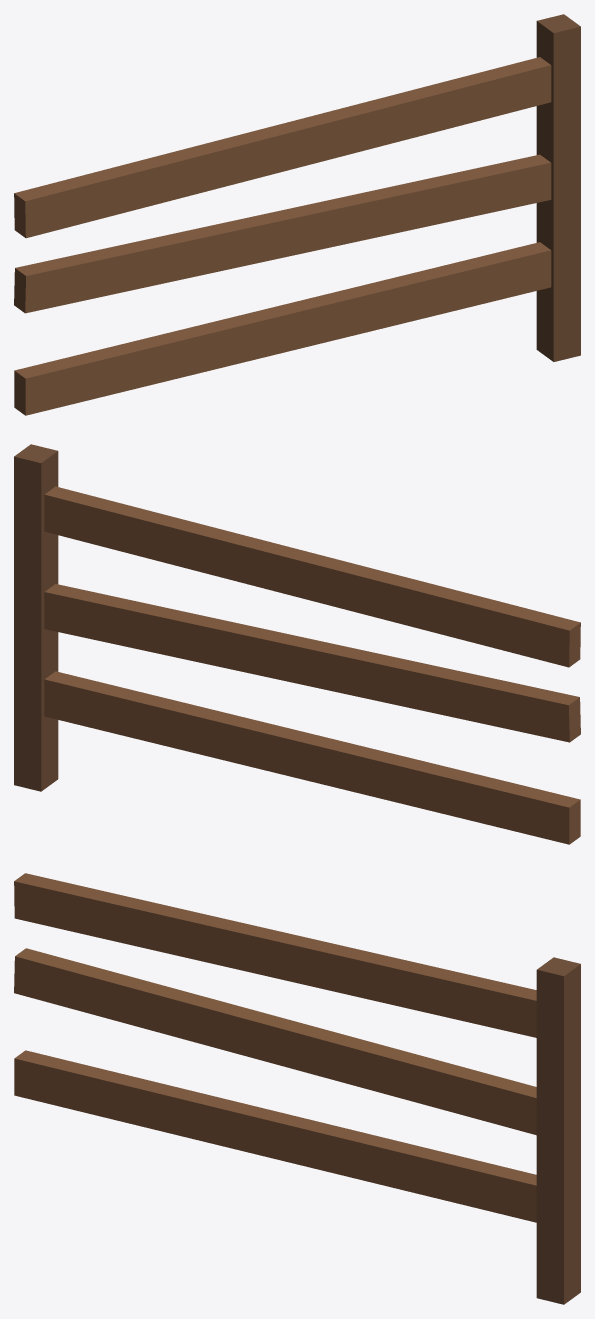
The model's file is Fence_02.glb.
3 renders of one model, top to bottom at view 1: azimuth 30°, elevation 25°; view 2: azimuth 150°, elevation 25°; view 3: azimuth 330°, elevation 25°, orthographic.
Visible parts, largest first — view 1: Fence_02; view 2: Fence_02; view 3: Fence_02.
Boxes of the visible parts, x1,y1,x2,y2 form: Fence_02: (14,14,580,415); Fence_02: (14,444,580,844); Fence_02: (14,873,580,1304).
Size of the model in its own units: 2.58 by 1.47 by 0.137.
Materials: 1 (1 with a texture image).
